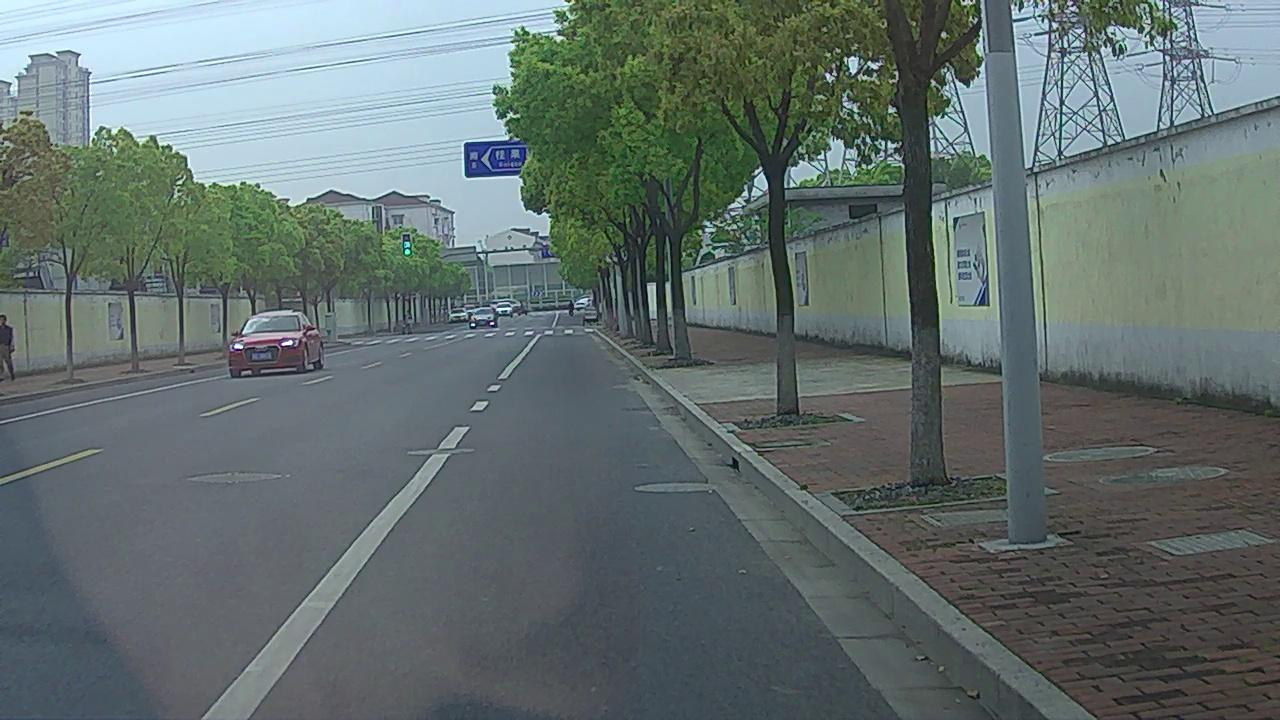traffic_light: (403, 235, 411, 256)
